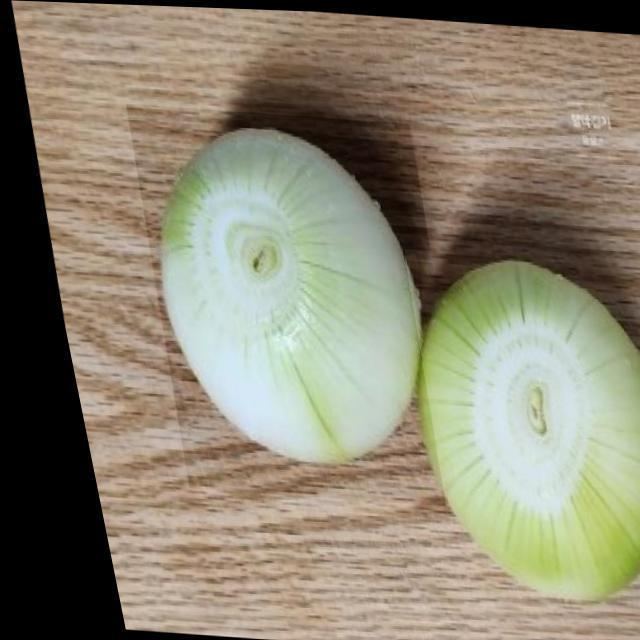Onion: (109, 102, 466, 506), (381, 246, 640, 618)
